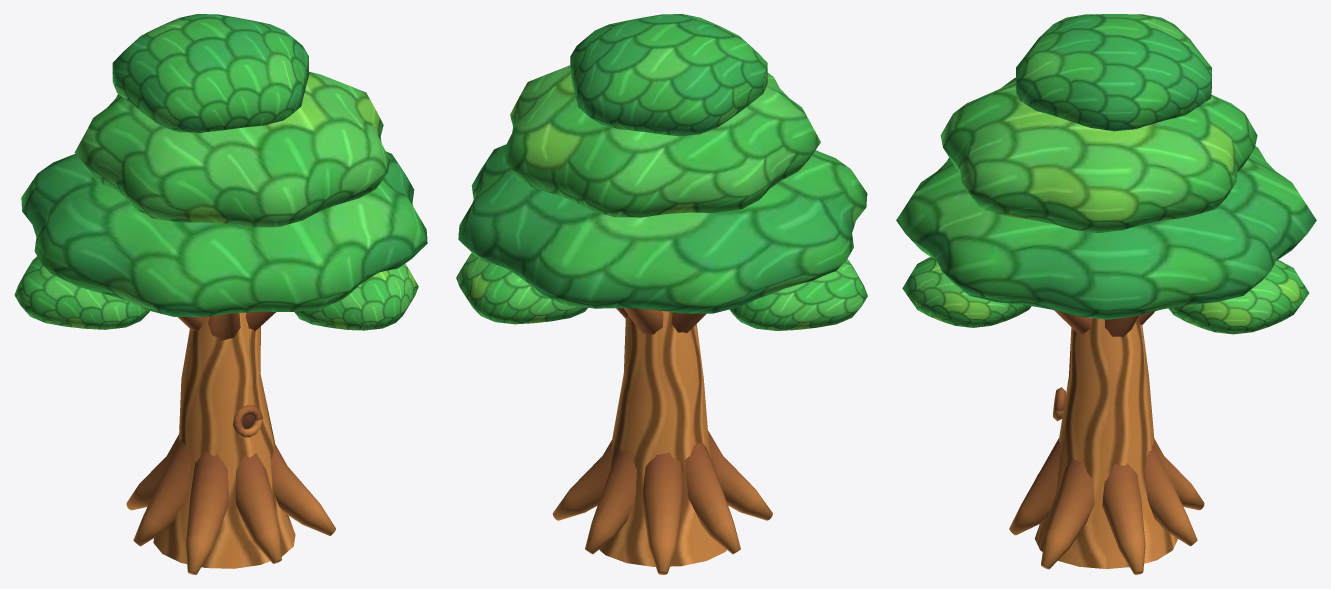
Rendered from giant_tree.glb.
3 views of the same model, side by side, from view 1: azimuth 30°, elevation 25°; view 2: azimuth 150°, elevation 25°; view 3: azimuth 270°, elevation 25° (orthographic).
Visible parts, largest first — view 1: giant_tree; view 2: giant_tree; view 3: giant_tree.
Boxes of the visible parts, left/top/right/bottom form: giant_tree: left=14, top=14, right=427, bottom=574; giant_tree: left=456, top=14, right=867, bottom=574; giant_tree: left=896, top=14, right=1316, bottom=574.
Size of the model in its own units: 17.89 by 22.7 by 17.01.
Materials: 2 (2 with a texture image).
